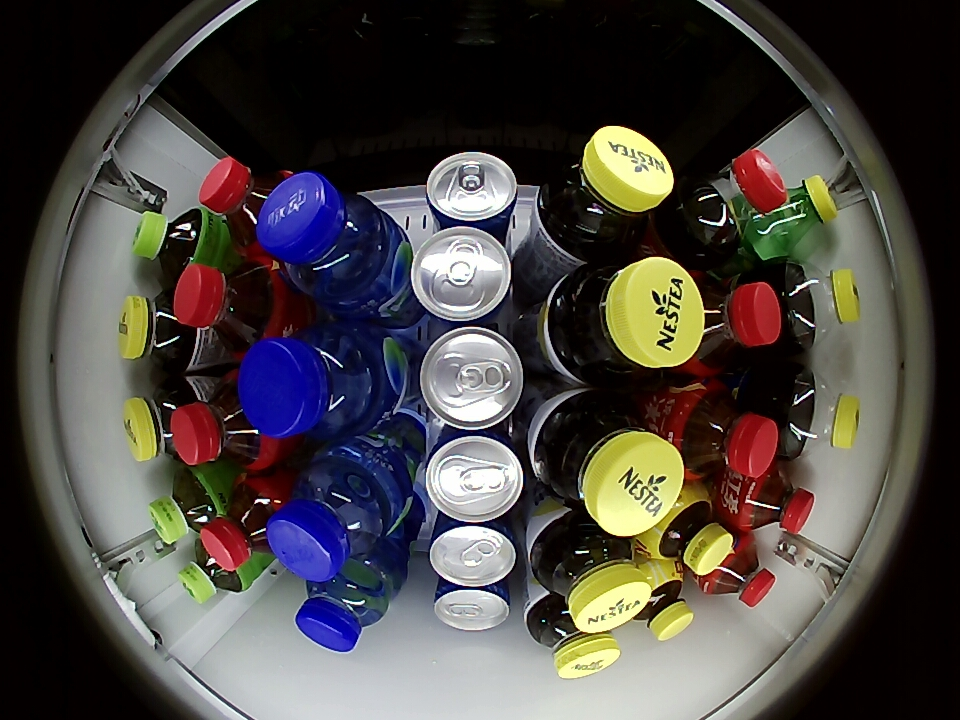baishikele: (780, 367, 861, 457), (781, 261, 861, 349)
binghongcha: (669, 379, 779, 481), (172, 376, 282, 471), (174, 260, 285, 352), (199, 157, 291, 256), (200, 472, 290, 572), (733, 466, 816, 535), (703, 536, 775, 607)
chacui: (532, 389, 684, 536), (547, 257, 704, 385), (537, 127, 674, 263), (530, 515, 651, 632), (526, 595, 621, 679), (123, 375, 201, 462), (118, 291, 197, 371)
kele-b: (681, 150, 786, 258), (689, 271, 781, 370)
maidong: (258, 173, 393, 306), (268, 451, 400, 582), (239, 324, 382, 439), (294, 557, 395, 653)
qingdaowangzi-2: (418, 325, 525, 432), (411, 226, 514, 325), (425, 429, 526, 523), (425, 152, 519, 233), (429, 517, 519, 587), (433, 578, 512, 631)
weitaningmeng-bottle: (637, 480, 734, 576), (627, 561, 693, 641)
xuebi-b: (758, 175, 837, 255)
yitengyuan: (149, 466, 222, 545), (132, 208, 210, 280), (179, 540, 250, 604)
